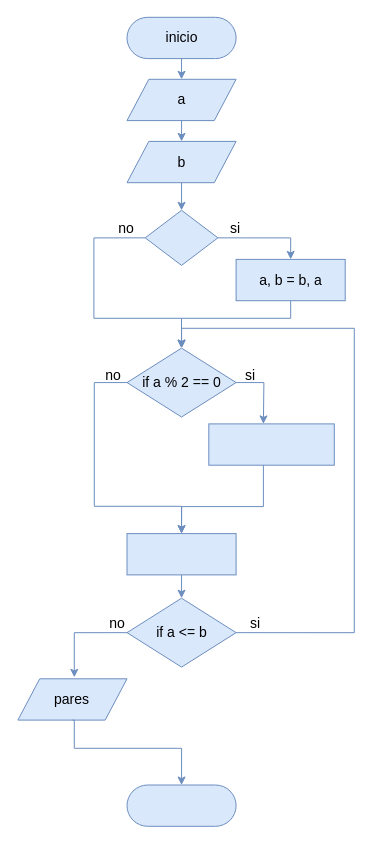
The diagram is 380 pixels wide and 844 high, and some of its shapes have lost their labels. Each missing label, with the centre of its shape:
a + 1: (181,554)
fin: (181,805)
if a > b: (181,237)
pares = pares + 'a': (271,444)
